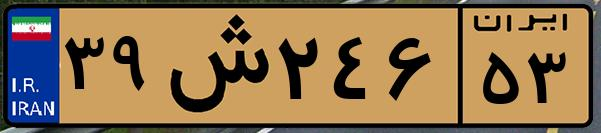2: (270, 28, 330, 110)
3: (57, 26, 110, 100), (525, 38, 570, 115)
4: (330, 28, 385, 110)
5: (475, 38, 525, 113)
6: (385, 28, 445, 110)
9: (110, 28, 158, 98)
ش: (158, 12, 270, 120)
